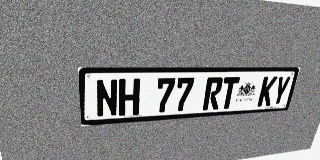7: (154, 78, 176, 114), (173, 78, 195, 112)
H: (119, 78, 140, 116)
K: (257, 76, 278, 107)
N: (95, 79, 118, 118)
R: (202, 77, 224, 110)
T: (219, 77, 240, 109)
Y: (270, 76, 291, 106)
